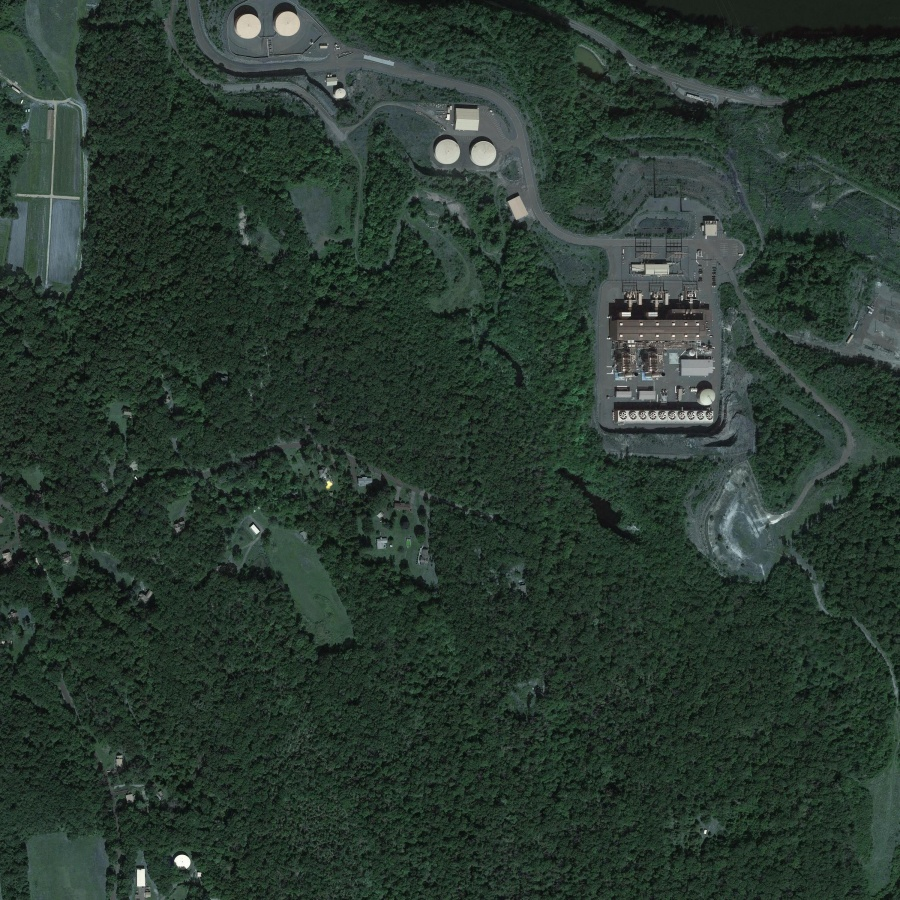PowerPlant: (600, 200, 746, 440)
